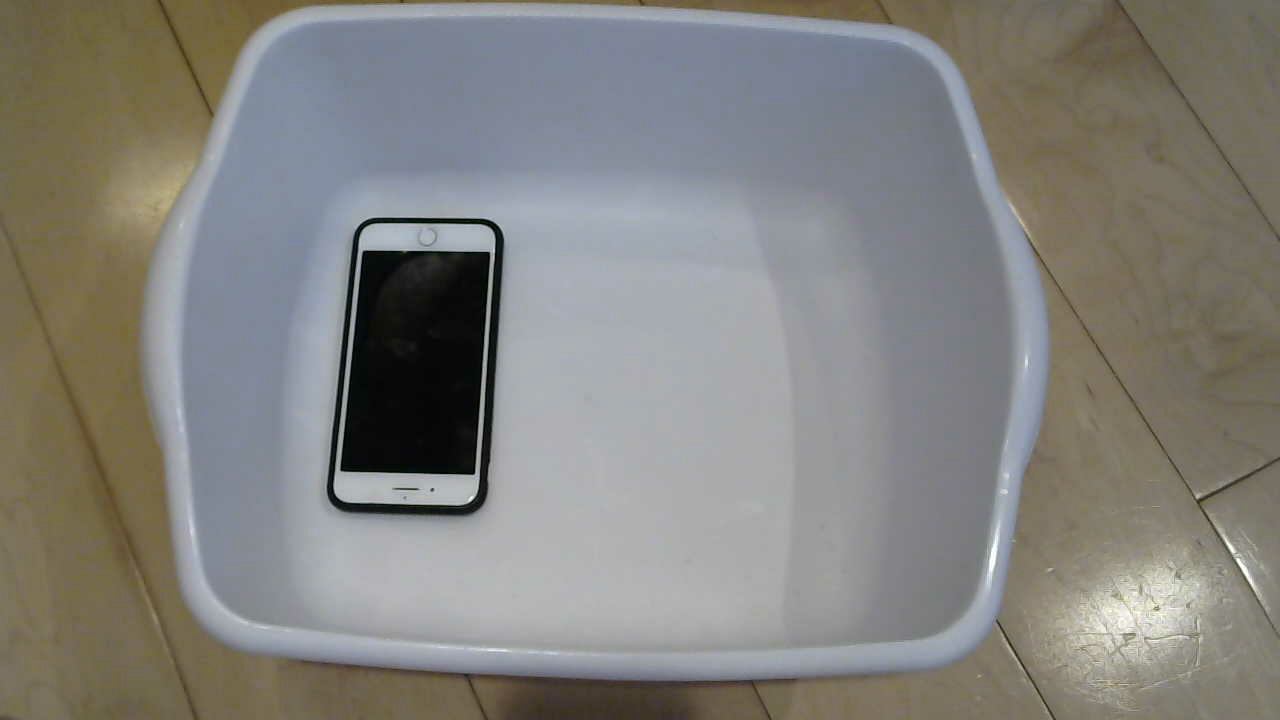phone: (328, 211, 513, 532)
